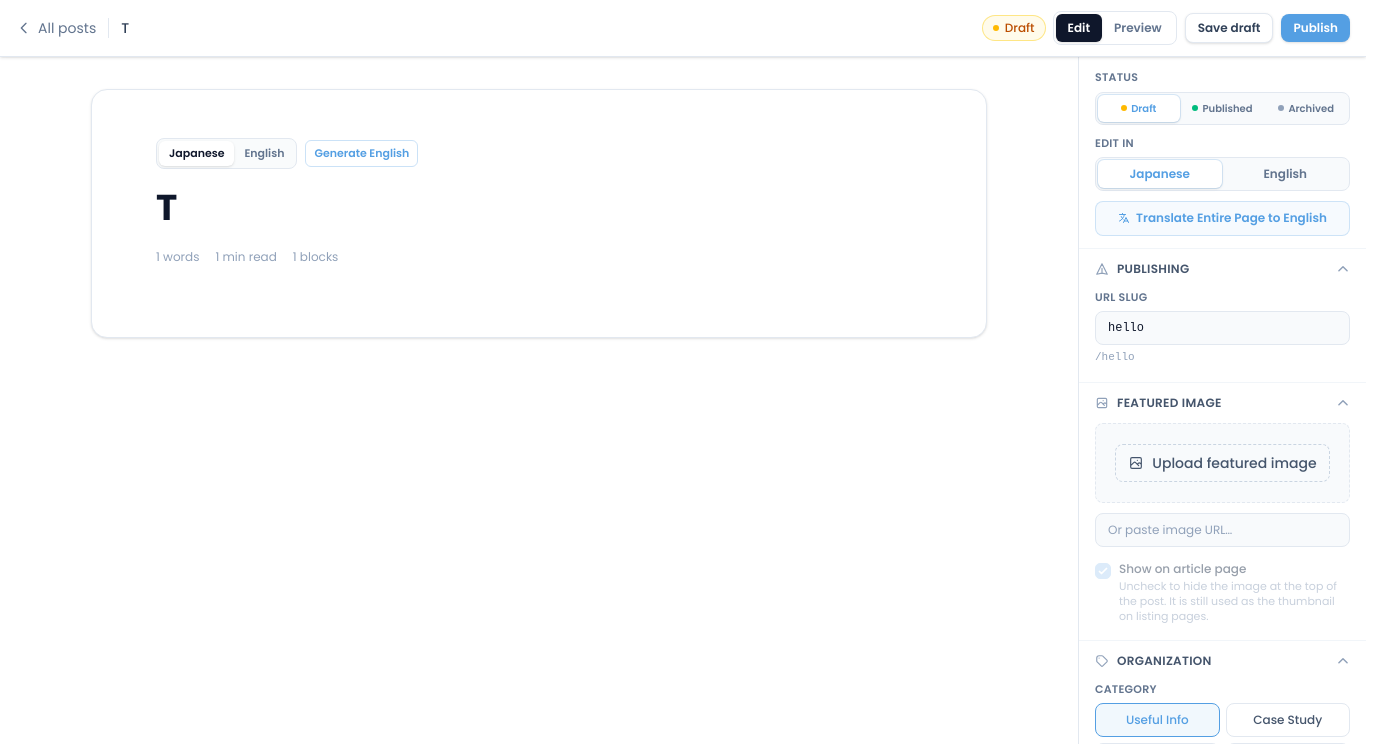
PostEditor › shows an inline notice when autosave hits a slug conflict
Replace the text in the text box showing "T" with "Tx" at (539, 207), box 156,184 -> 922,230
Wait 10050 ms
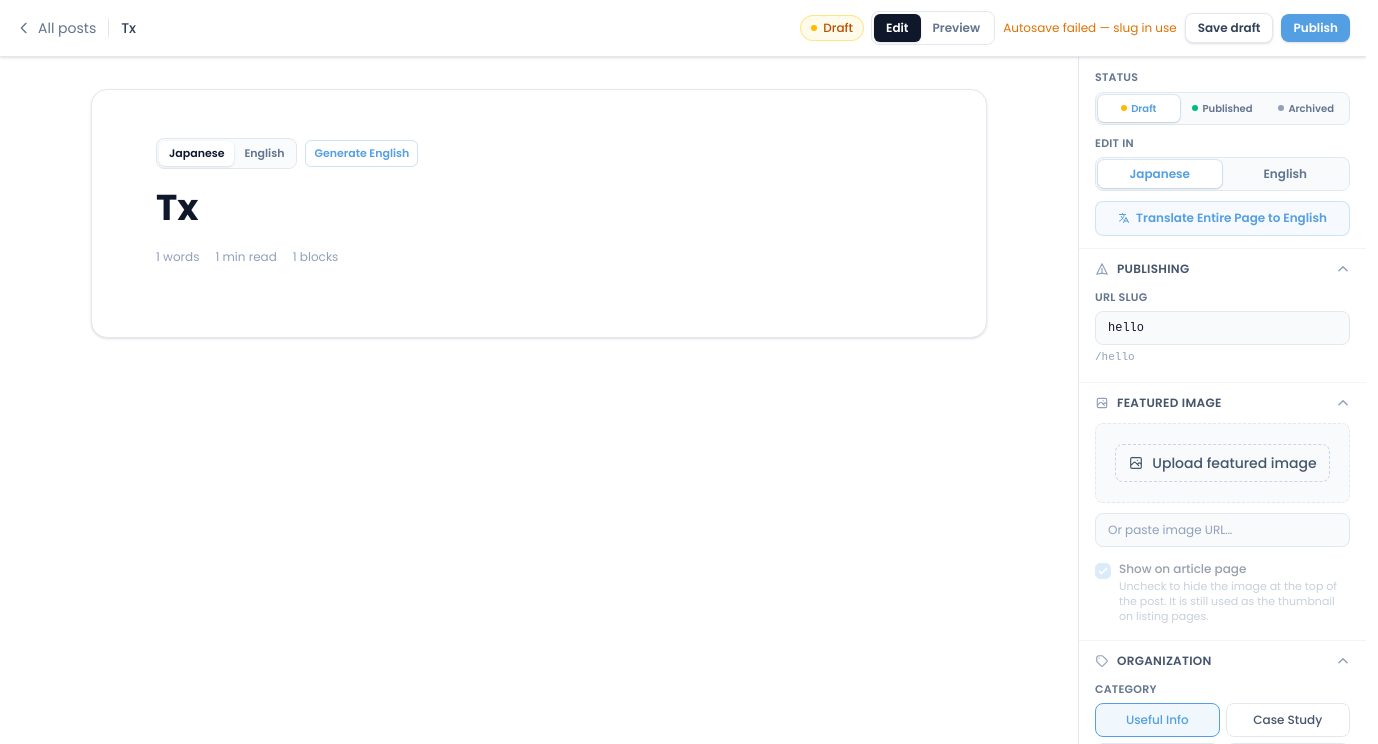
Result: the text "Autosave failed — slug in use" is shown at 1003,20 -> 1177,36
